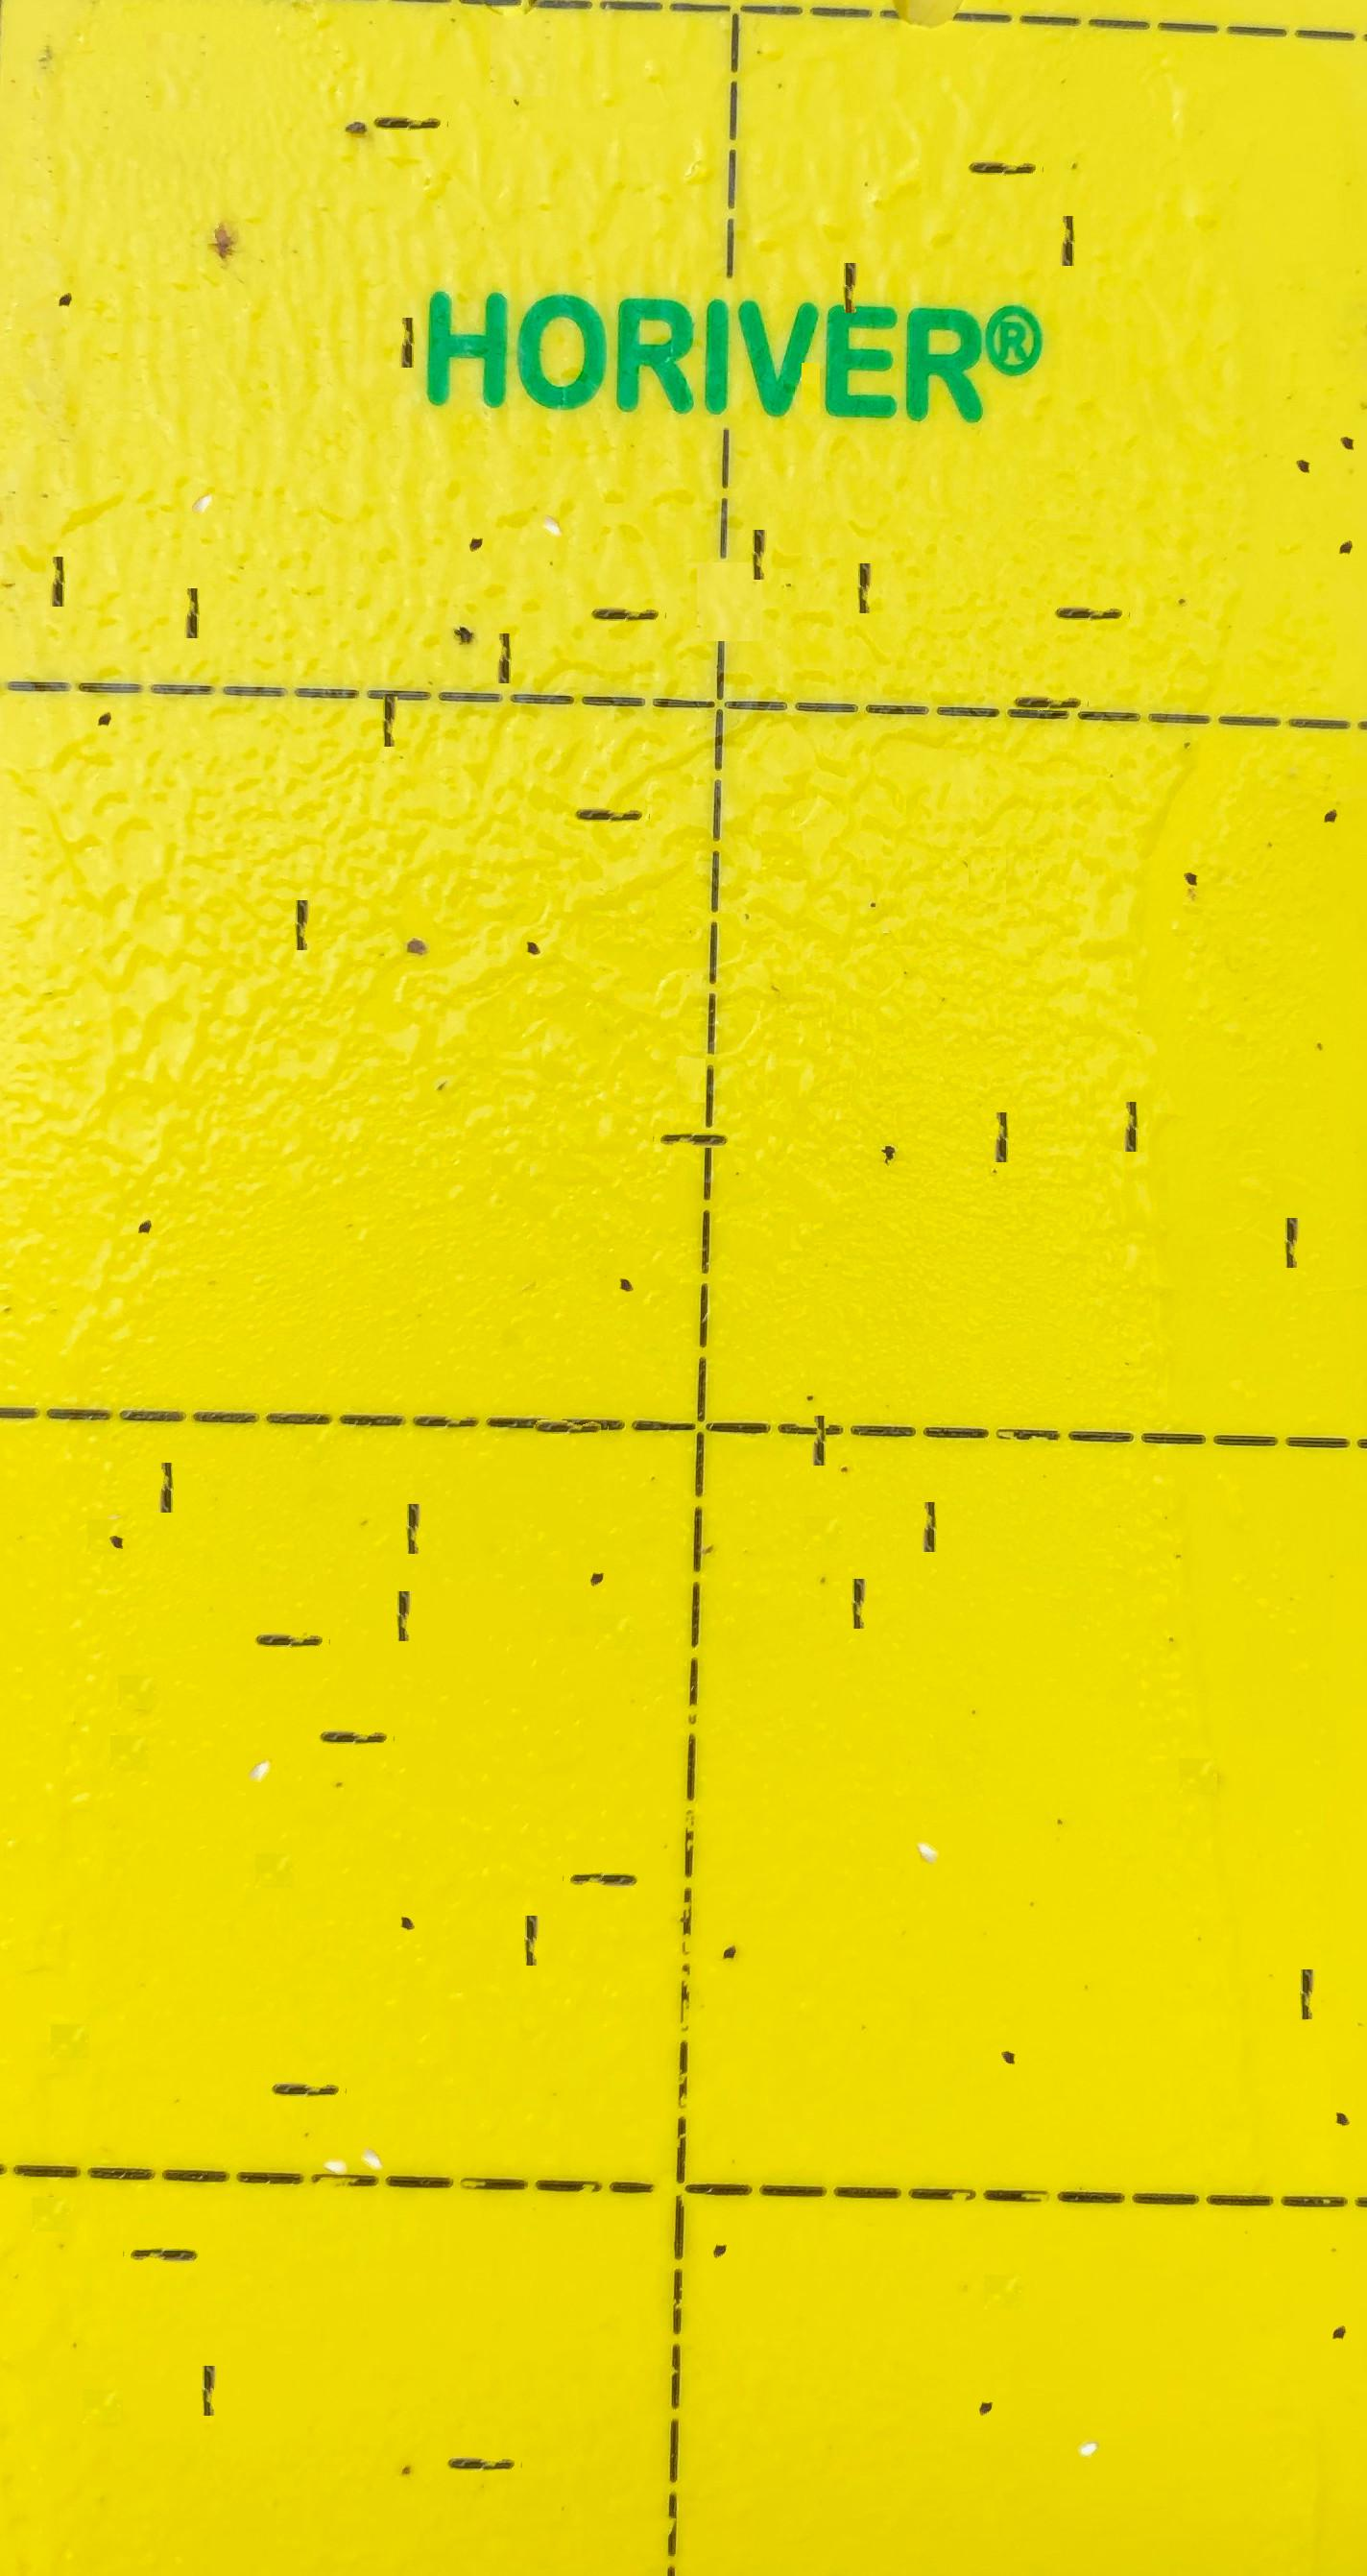white_fly: (1067, 2377, 1108, 2424), (530, 460, 573, 504), (907, 1789, 949, 1831), (181, 441, 223, 484), (239, 1707, 280, 1751), (351, 2094, 392, 2136), (315, 2113, 358, 2150)
